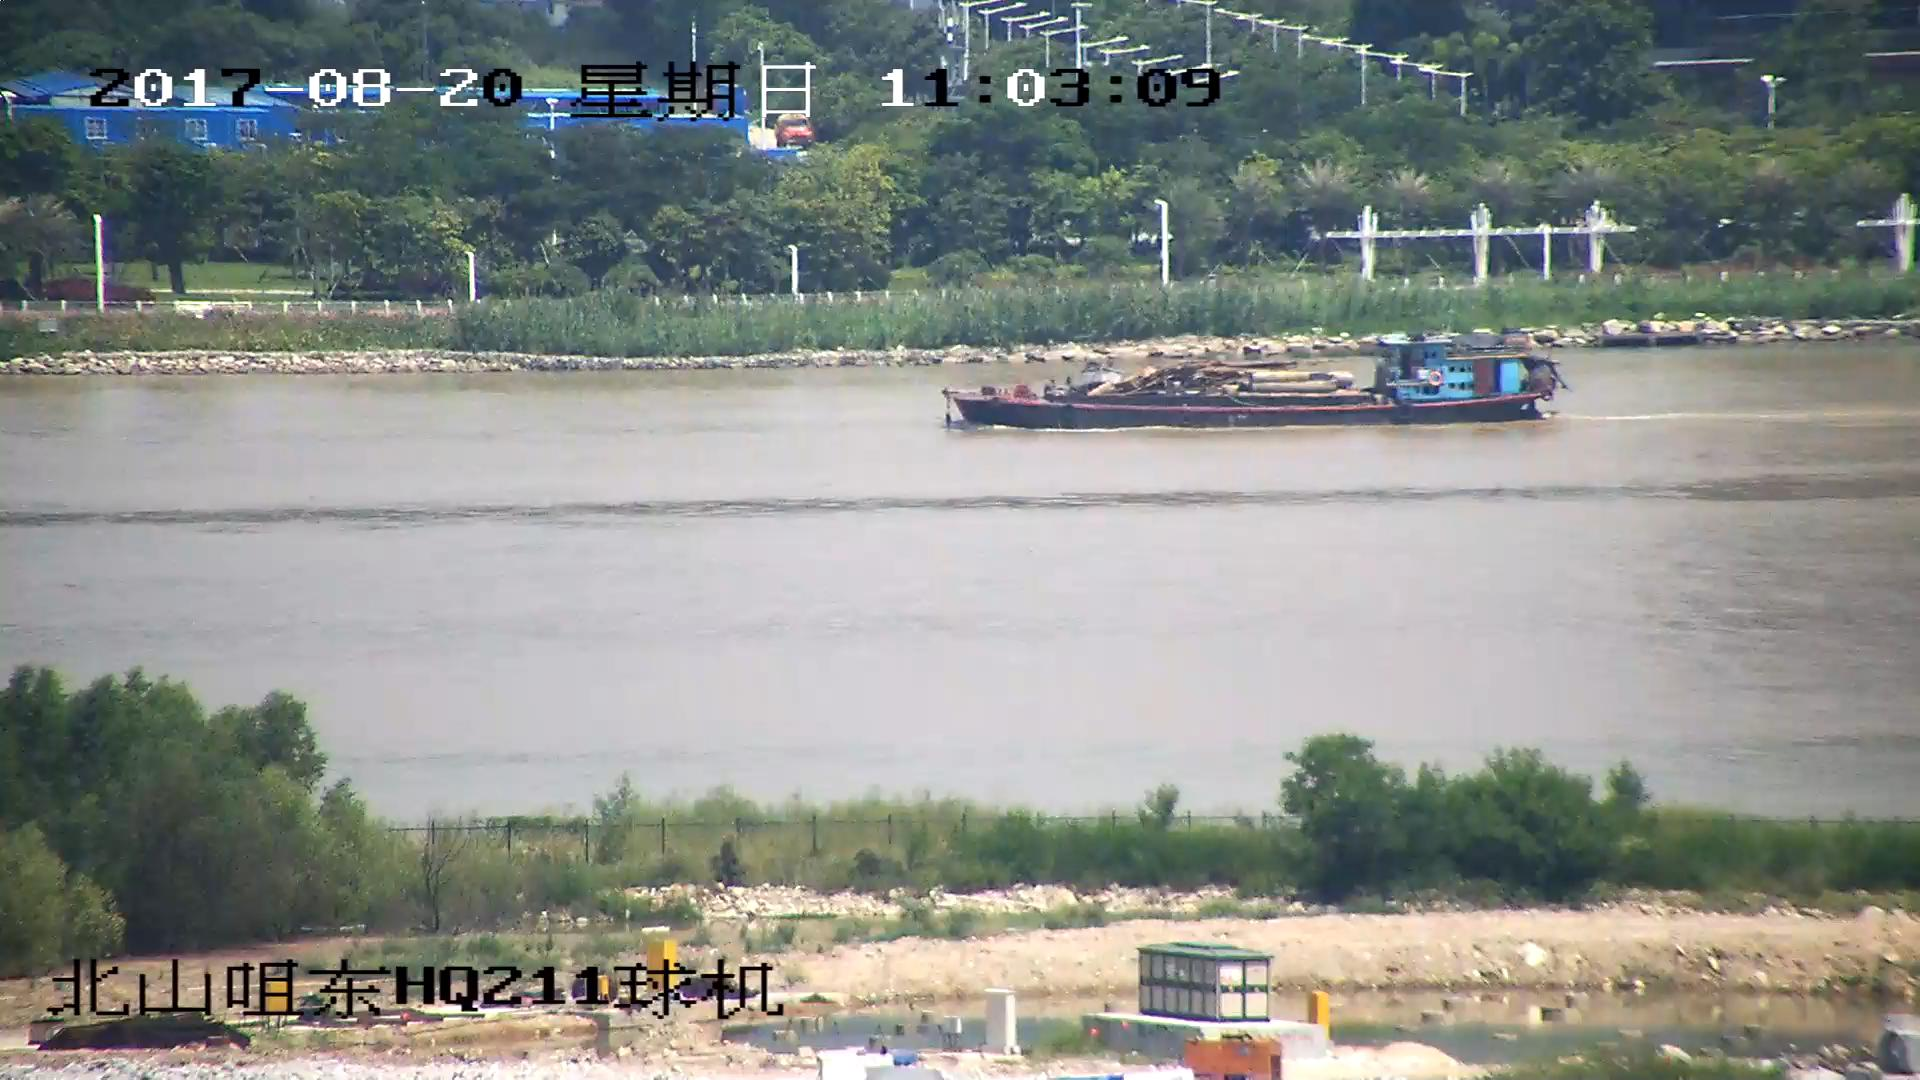bulk cargo carrier: (948, 338, 1570, 432)
